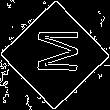M_W: (30, 32, 80, 78)
